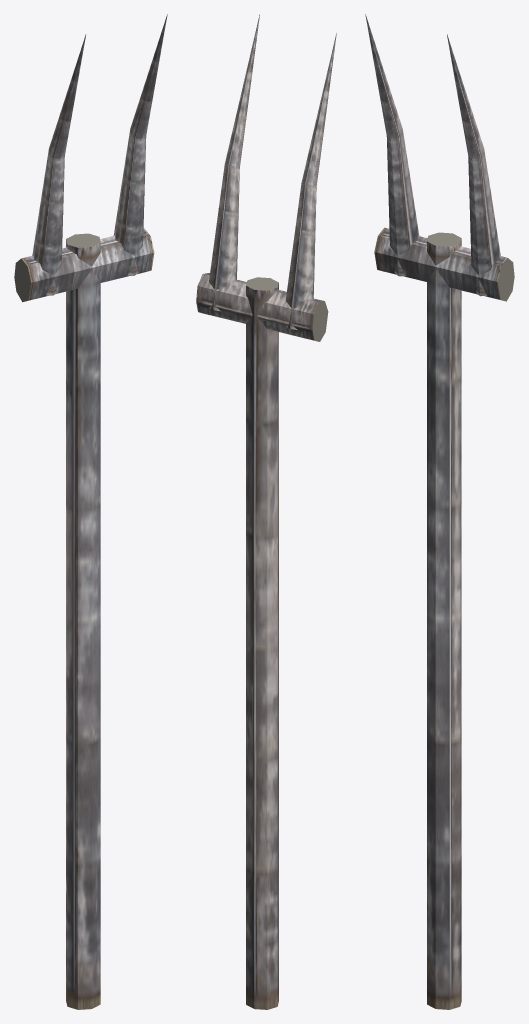
The model's file is pitchfork208_wtf.obj.
The picture shows the model from 3 angles, left to right: view 1: azimuth 30°, elevation 25°; view 2: azimuth 150°, elevation 25°; view 3: azimuth 330°, elevation 25°; orthographic projection. The views are drawn at different scales.
Visible parts, largest first — view 1: group6, group5, group2, group4; view 2: group6, group5, group2, group4; view 3: group6, group5, group2, group4.
Part boxes in pixels (x1,y1,x2,y2): group6: (66,233,100,1009); group5: (14,228,154,302); group2: (32,34,86,295); group4: (113,14,167,275); group6: (246,277,278,1009); group5: (196,273,328,341); group2: (285,33,336,329); group4: (208,14,259,311); group6: (427,232,461,1009); group5: (374,227,514,301); group2: (365,14,419,276); group4: (447,34,500,296).
Size of the model in its own units: 84.46 by 660 by 58.96.
